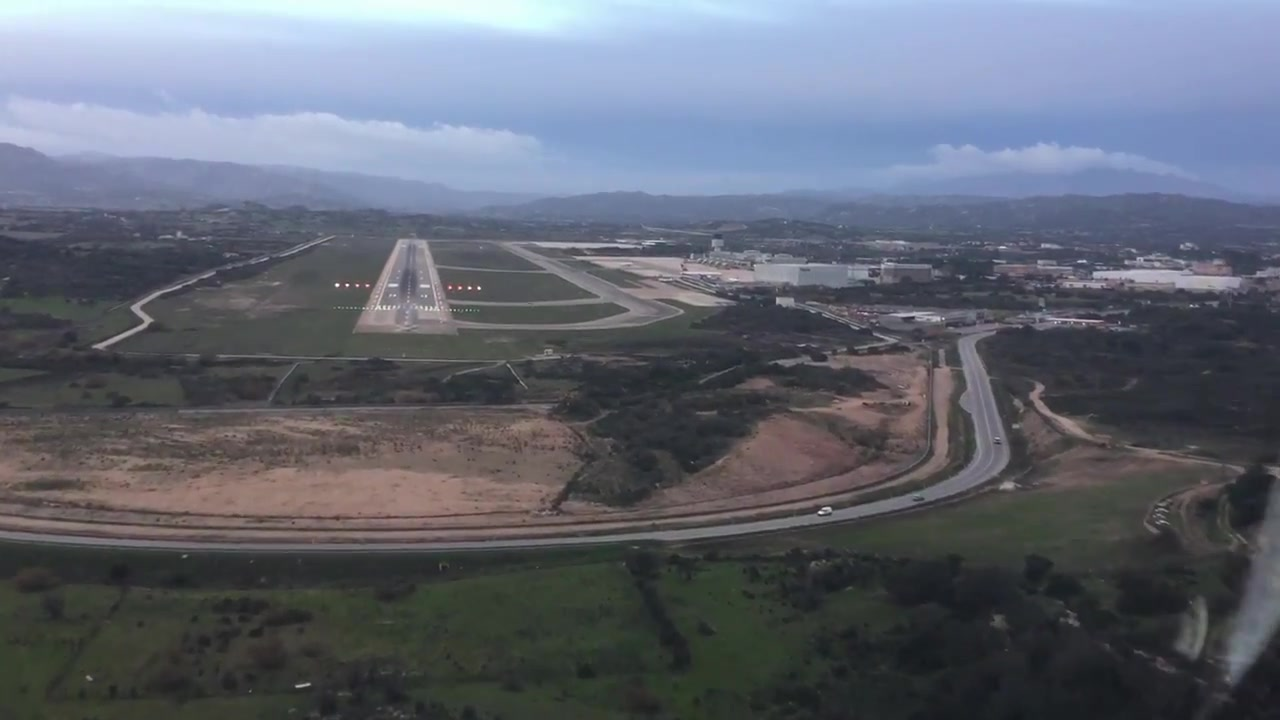entrance: (379, 303, 437, 311)
runway: (355, 239, 455, 335)
